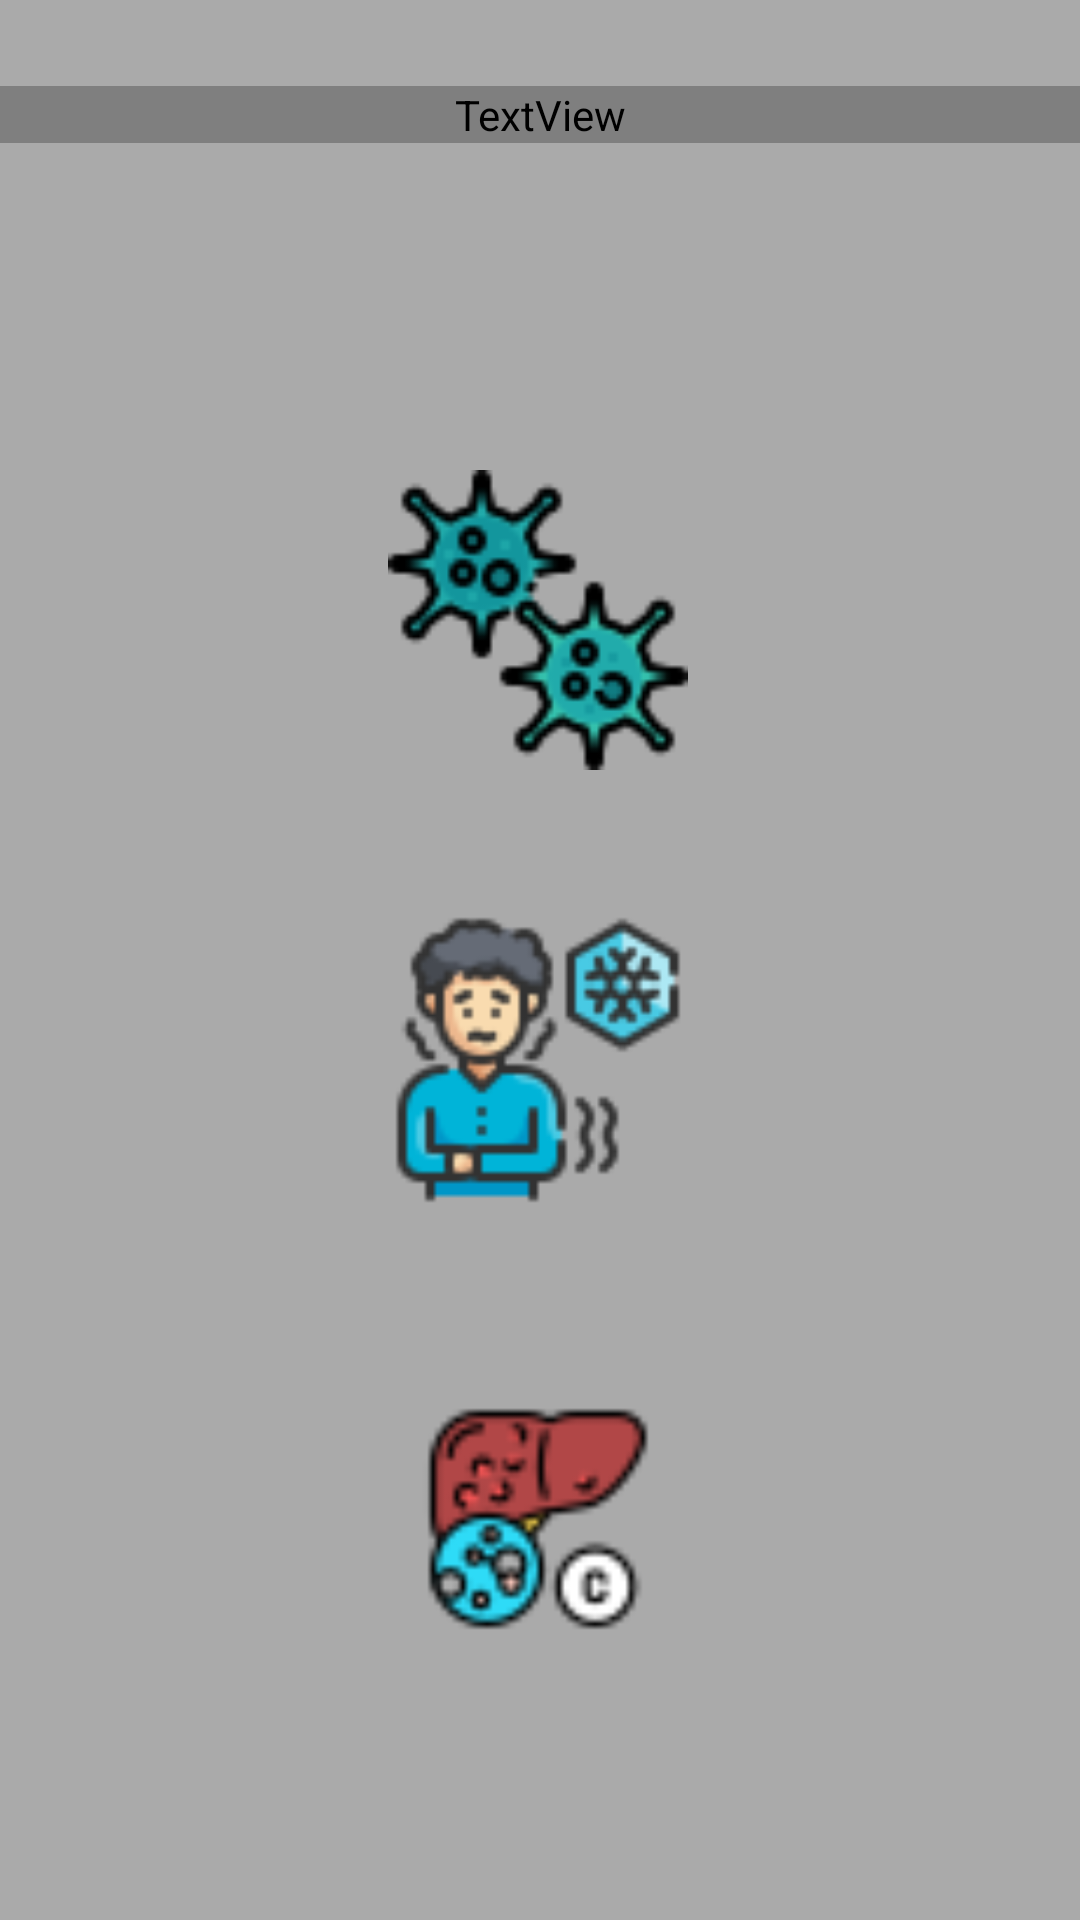

Icon click points for this 1080w x 1920h phone screenshot, format (x=x, y=y):
cold: (x=538, y=1060)
hep: (x=538, y=1519)
virus: (x=538, y=620)
